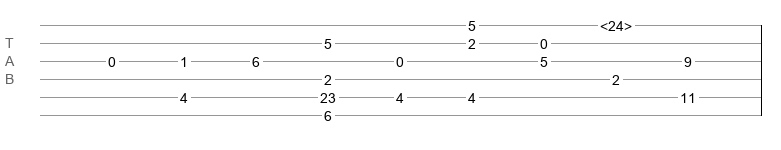0: (108, 54, 116, 64), (396, 54, 404, 64), (540, 36, 548, 46)
1: (180, 54, 188, 64)
11: (680, 90, 696, 100)
2: (324, 72, 332, 82), (468, 36, 476, 46), (612, 72, 620, 82)
23: (320, 90, 336, 100)
4: (180, 90, 188, 100), (396, 90, 404, 100), (468, 90, 476, 100)
5: (324, 36, 332, 46), (468, 18, 476, 28), (540, 54, 548, 64)
6: (252, 54, 260, 64), (324, 108, 332, 118)
9: (684, 54, 692, 64)
harmonic: (600, 18, 632, 28)
